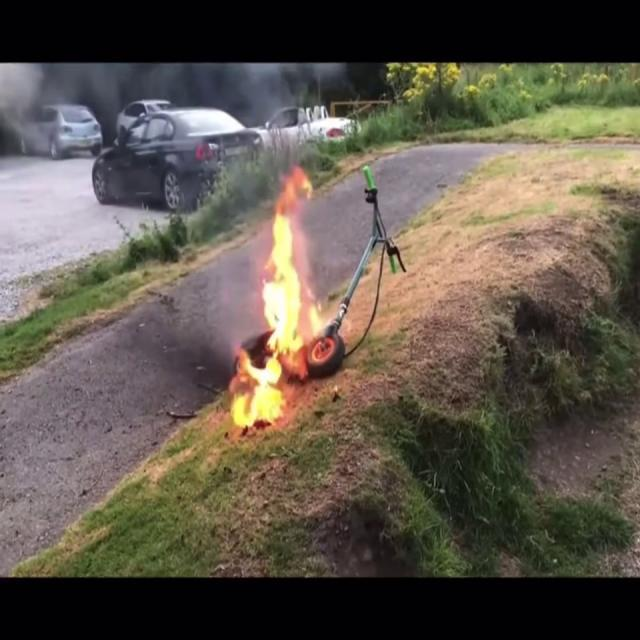Fire: (225, 174, 331, 426)
